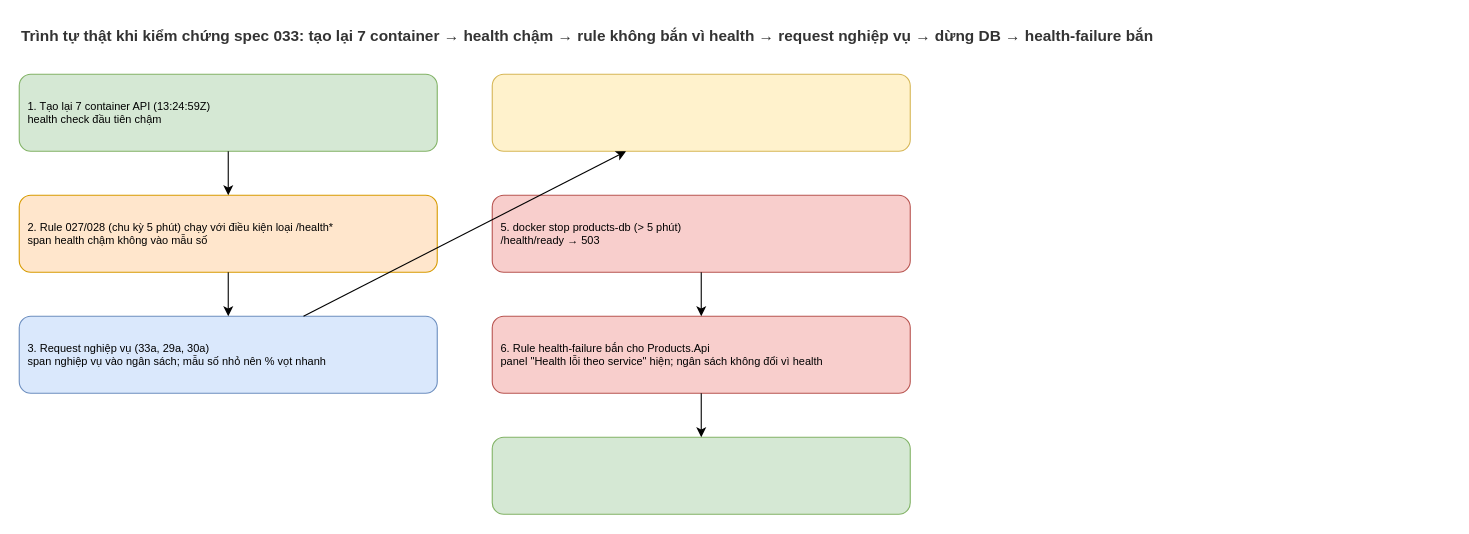
Some shapes in this 1469 by 534 pixel diagram are drawn without their labels. Here are the shapes that lost their labels. From the top down, the centre of each, then its label:
At (700,112): "4. Dashboard khớp ES|QL (30b, 33b) giá trị cùng thời điểm".
At (700,475): "7. Bật lại products-db → health 200".
